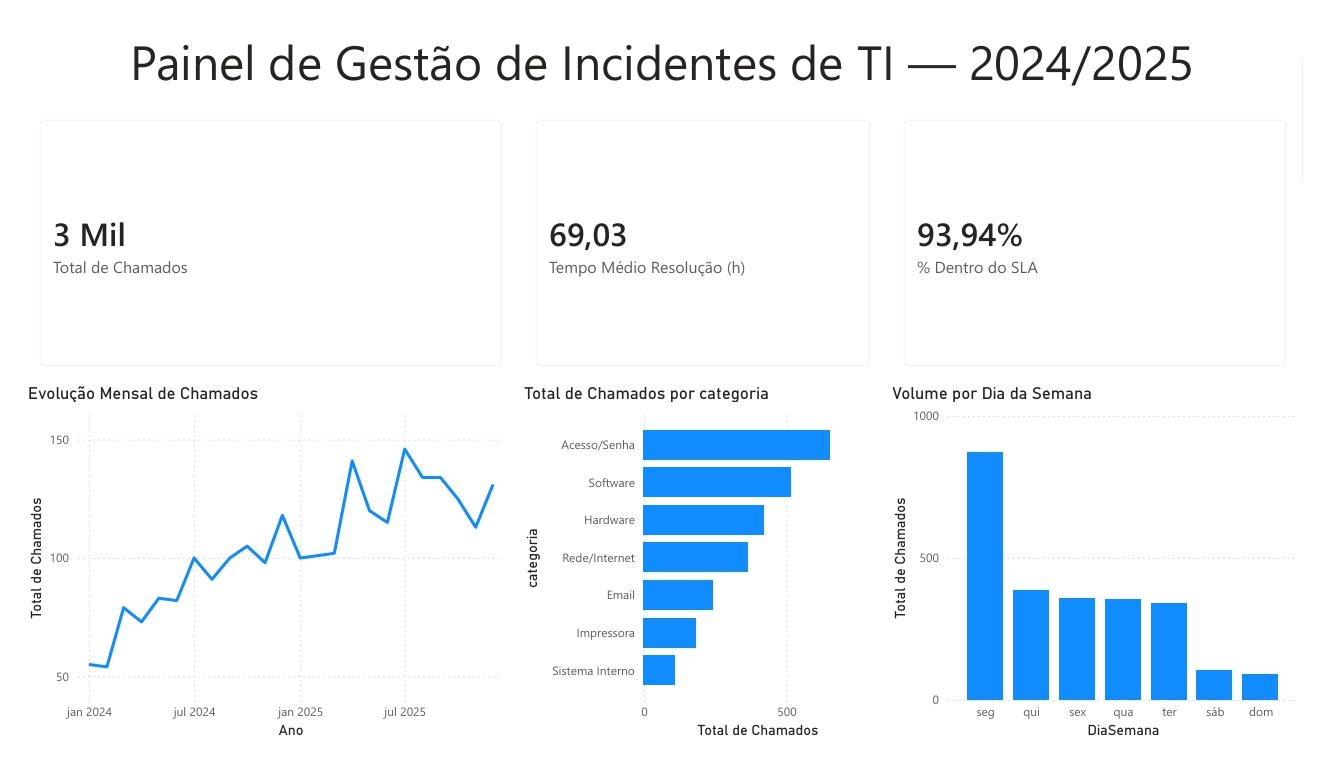

Layout of this report page (visuals, bound fields, positions):
{"tool":"powerbi","page":{"name":"Página 1","canvas":[1280,720],"ordinal":0},"visuals":[{"type":"cardVisual","fields":{"Data":["chamados_ti_1.Total de Chamados"]},"box":[0,80,496,280],"z":0},{"type":"cardVisual","fields":{"Data":["chamados_ti_1.Tempo Médio Resolução (h)"]},"box":[496,80,368,280],"z":1000},{"type":"cardVisual","fields":{"Data":["chamados_ti_1.% Dentro do SLA"]},"box":[864,80,416,280],"z":2000},{"type":"lineChart","title":"Evolução Mensal de Chamados","fields":{"Y":["chamados_ti_1.Total de Chamados"],"Category":["dCalendario.Date.Variation.Hierarquia de datas.Ano","dCalendario.Date.Variation.Hierarquia de datas.Mês"]},"box":[0,360,496,360],"z":3000},{"type":"barChart","fields":{"Category":["chamados_ti_1.categoria"],"Y":["chamados_ti_1.Total de Chamados"]},"box":[496,360,368,360],"z":4000},{"type":"columnChart","title":"Volume por Dia da Semana","fields":{"Y":["chamados_ti_1.Total de Chamados"],"Category":["dCalendario.DiaSemana"]},"box":[864,360,416,360],"z":5000},{"type":"textbox","box":[0,0,1280,80],"z":6000}]}

Visuals, with their boxes in screenshot pixels (x1, y1, x2, y2), scaled from the page's 1280x720 canvas onto the 1326x766 screenshot:
cardVisual - chamados_ti_1.Total de Chamados: box(0, 85, 514, 383)
cardVisual - chamados_ti_1.Tempo Médio Resolução (h): box(514, 85, 895, 383)
cardVisual - chamados_ti_1.% Dentro do SLA: box(895, 85, 1325, 383)
"Evolução Mensal de Chamados" lineChart: box(0, 383, 514, 765)
barChart - chamados_ti_1.categoria x chamados_ti_1.Total de Chamados: box(514, 383, 895, 765)
"Volume por Dia da Semana" columnChart: box(895, 383, 1325, 765)
textbox: box(0, 0, 1325, 85)
